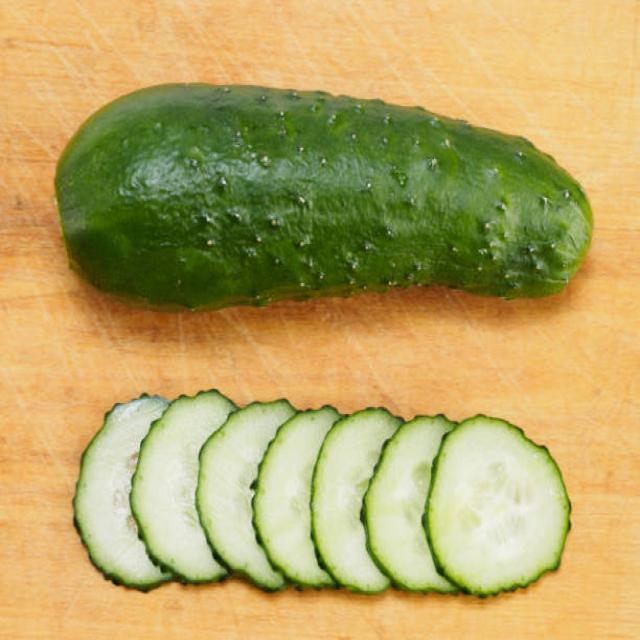cucumber: (54, 82, 596, 314)
